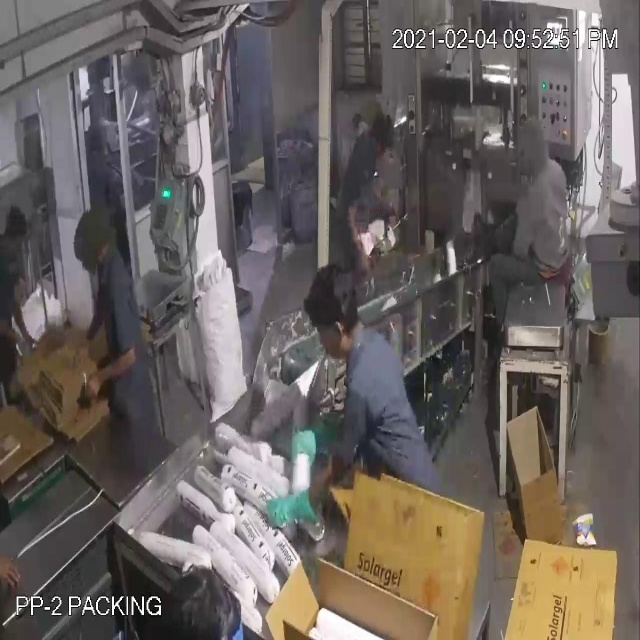Guantes: (262, 487, 323, 540), (291, 412, 342, 471)
Sin_guantes: (78, 333, 137, 404), (342, 199, 378, 270)
